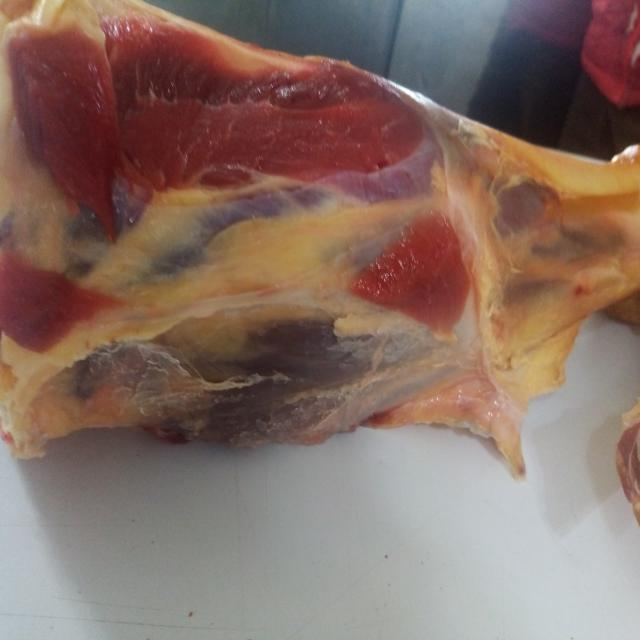beef: (1, 0, 630, 507)
